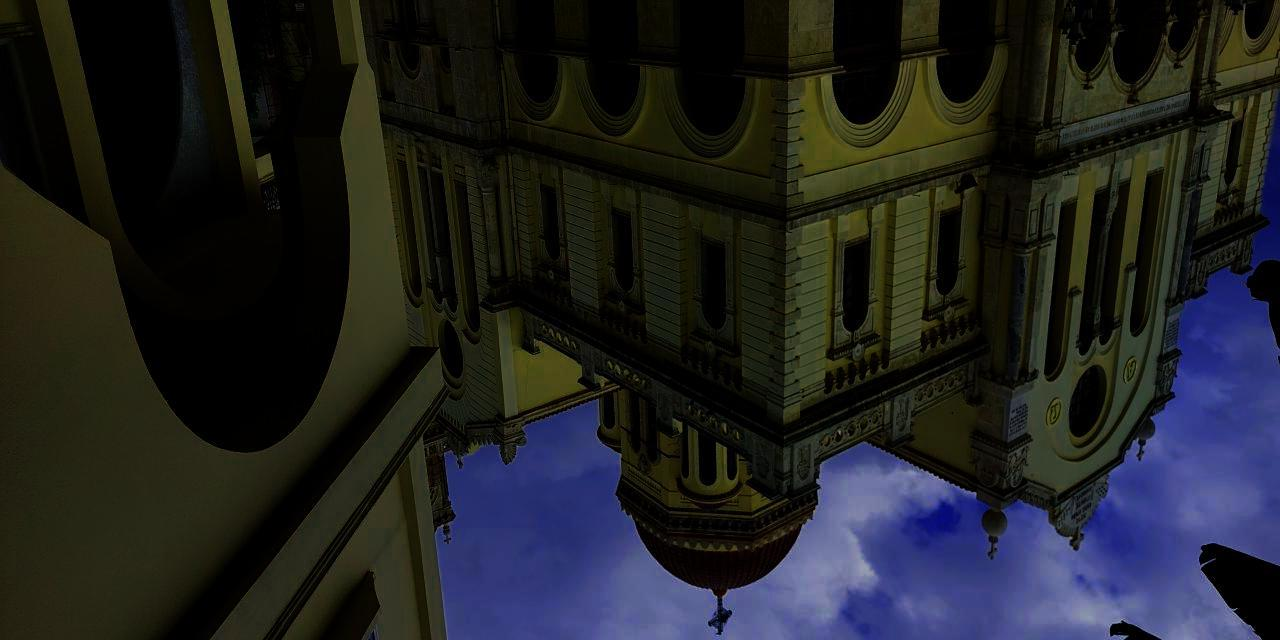Agios Minas: (364, 1, 1280, 640)
